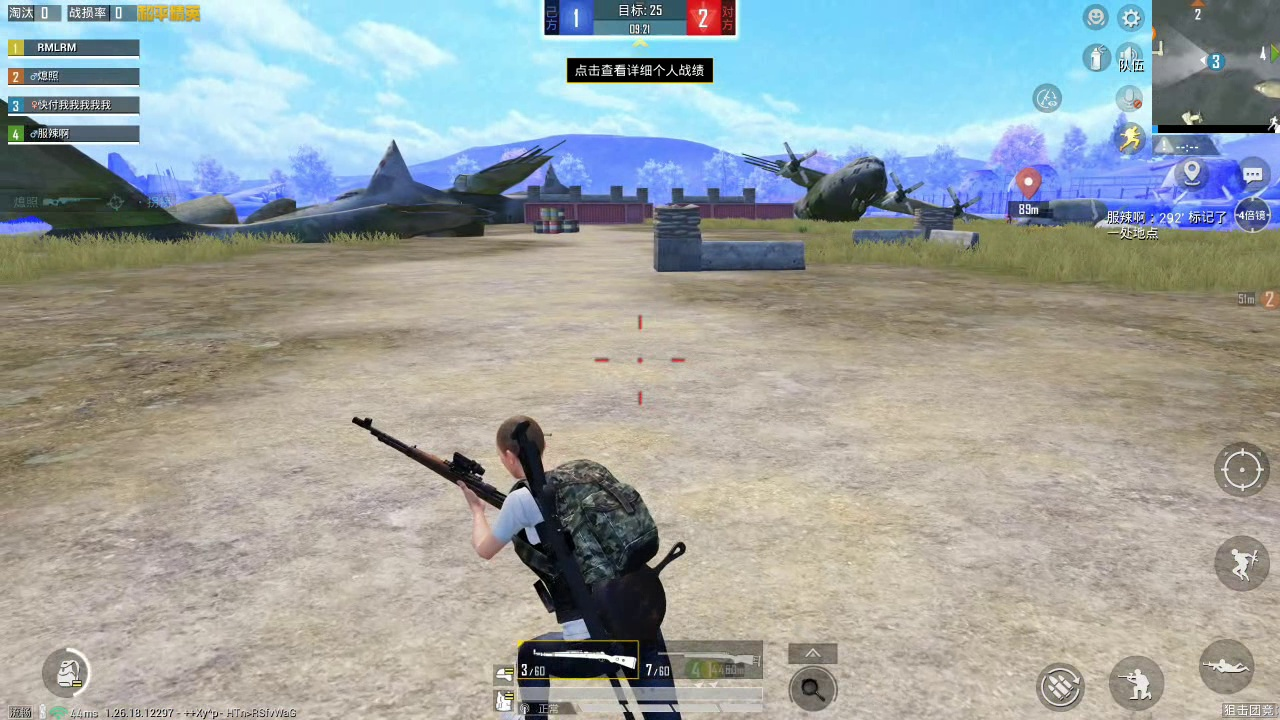enemy: (1004, 211, 1011, 224)
